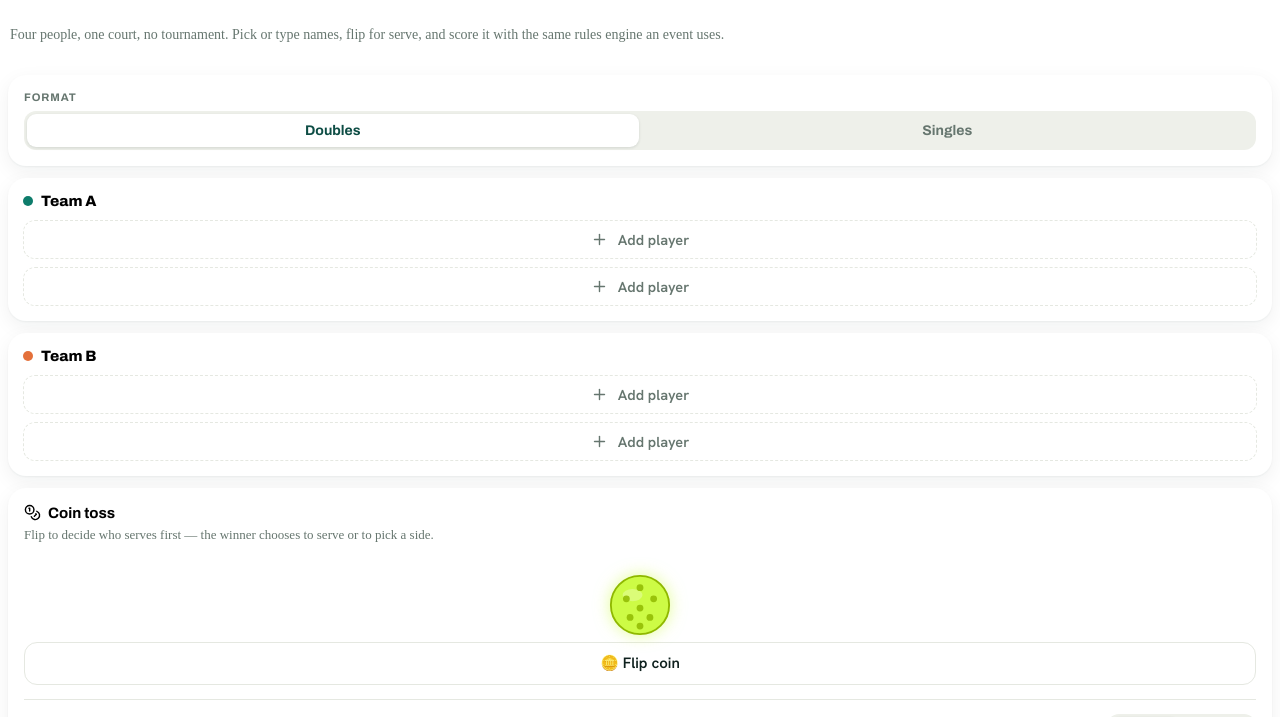
Scenario: searching for a player › offers to add a one-off when nothing matches
The image size is (1280, 717).
Click the 1st button "Add player": point(640, 240) [23, 220, 1257, 259]
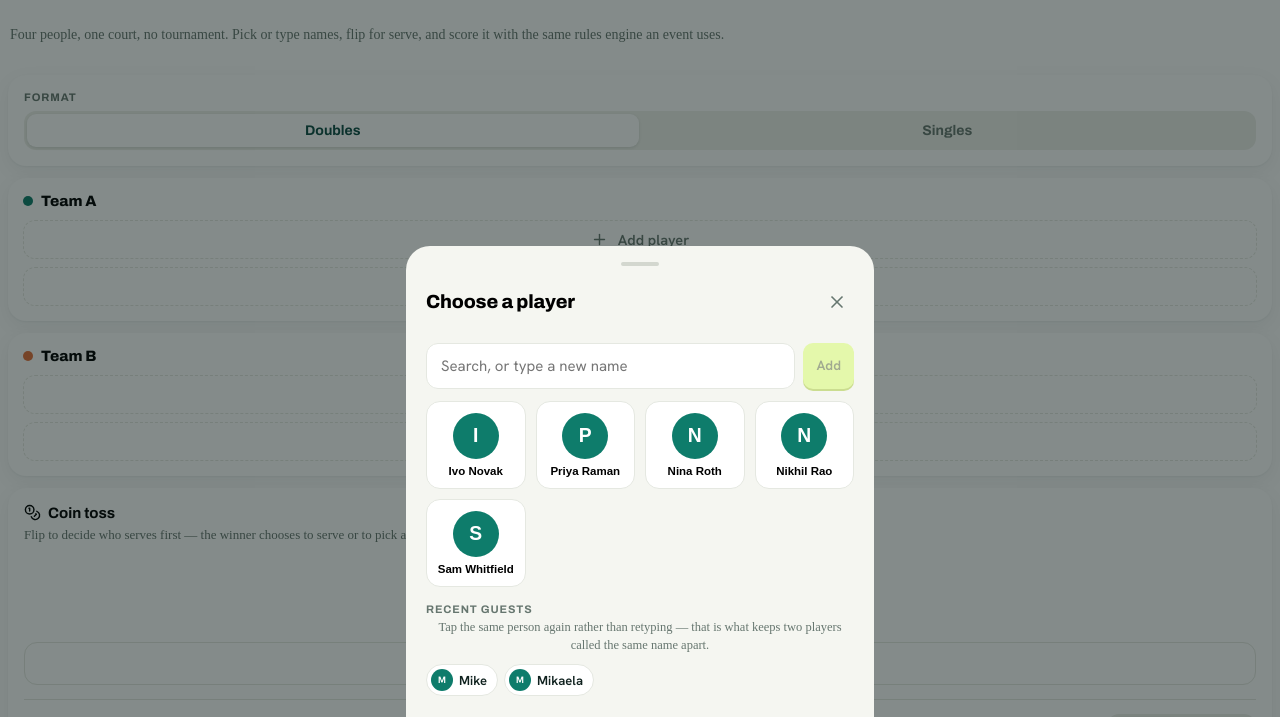
Expected: the text "Ivo Novak" is shown, [449, 465, 503, 477]
In the field with placeholder "Search, or type a new name": point(611, 366) [426, 343, 796, 389], type "Zorro"
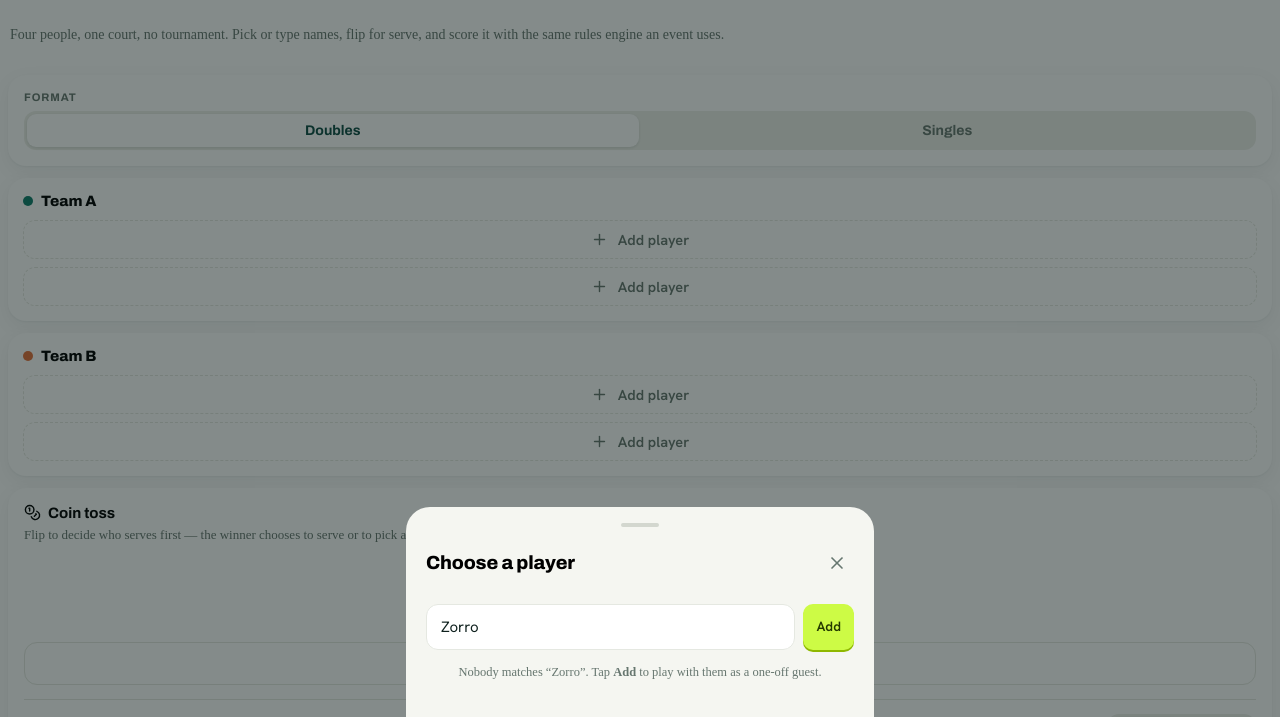
Expected: the text "Nobody matches" is shown, [458, 665, 551, 679]
Click the button "Add": point(829, 627) [804, 604, 854, 650]
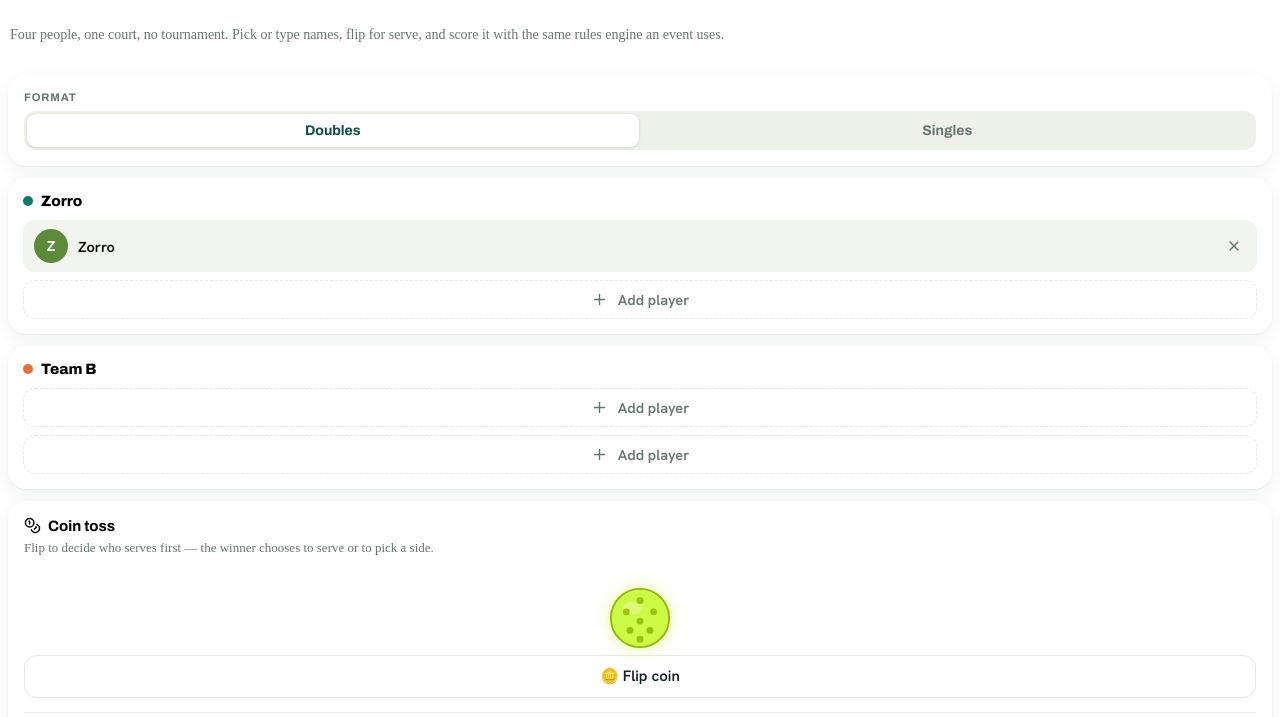
Expected: the heading "Choose a player" is gone
